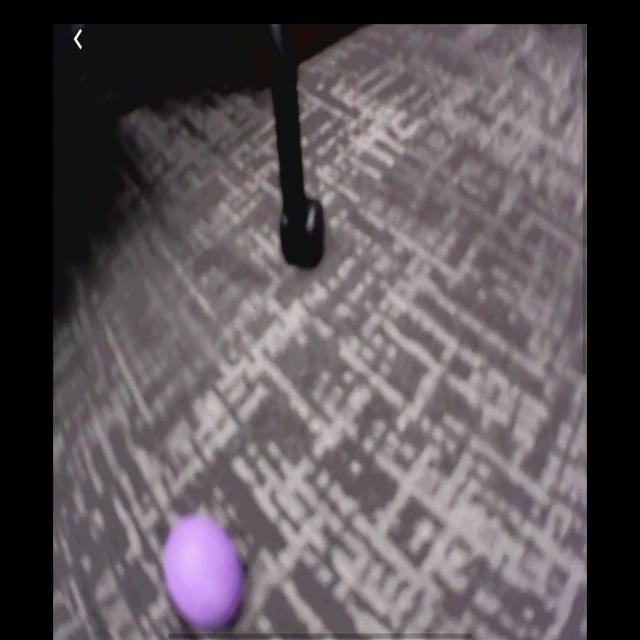ball: (166, 514, 243, 633)
